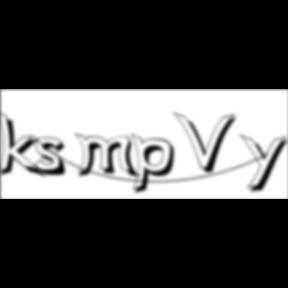V: (174, 110, 240, 176)
k: (0, 108, 48, 181)
m: (75, 132, 143, 181)
p: (132, 132, 182, 198)
s: (34, 137, 74, 179)
